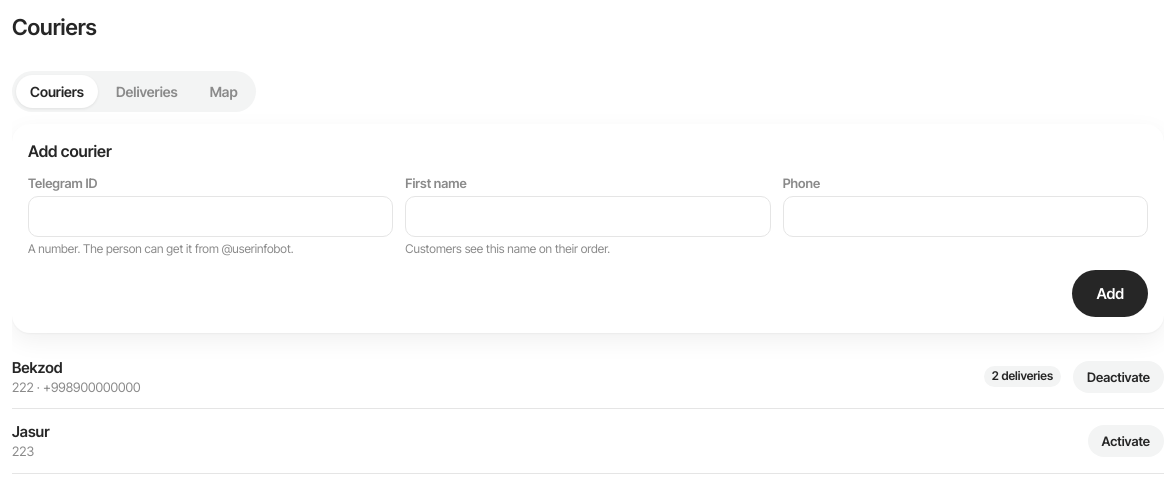
Scenario: CouriersScreen › switches tabs through the URL
Expected: the text "Bekzod" is shown, [12,358,62,377]
Click the tab "Deliveries". click: (147, 91)
box: [102,75,192,108]
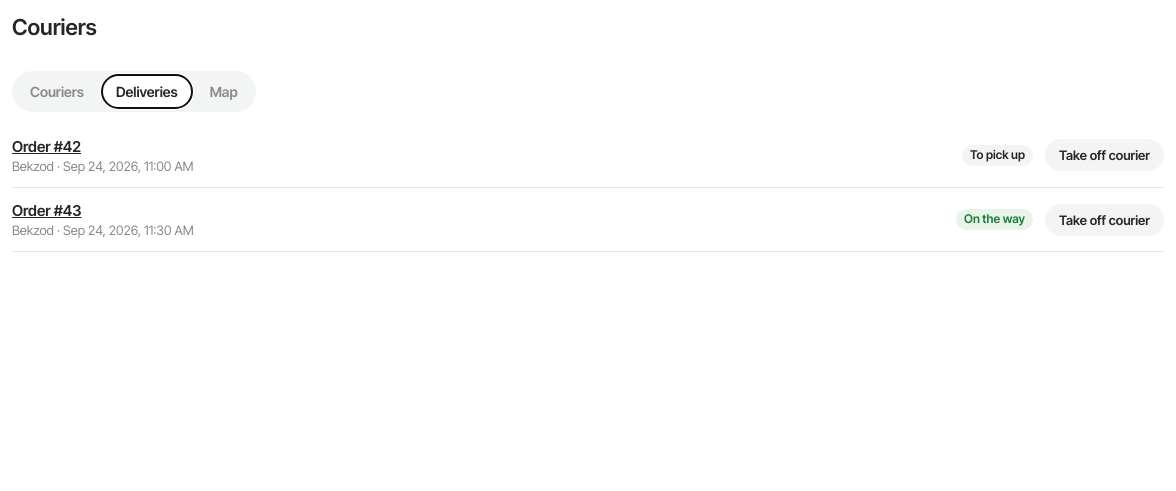
Now the link "Order #42" is shown, box [12,137,81,156]
